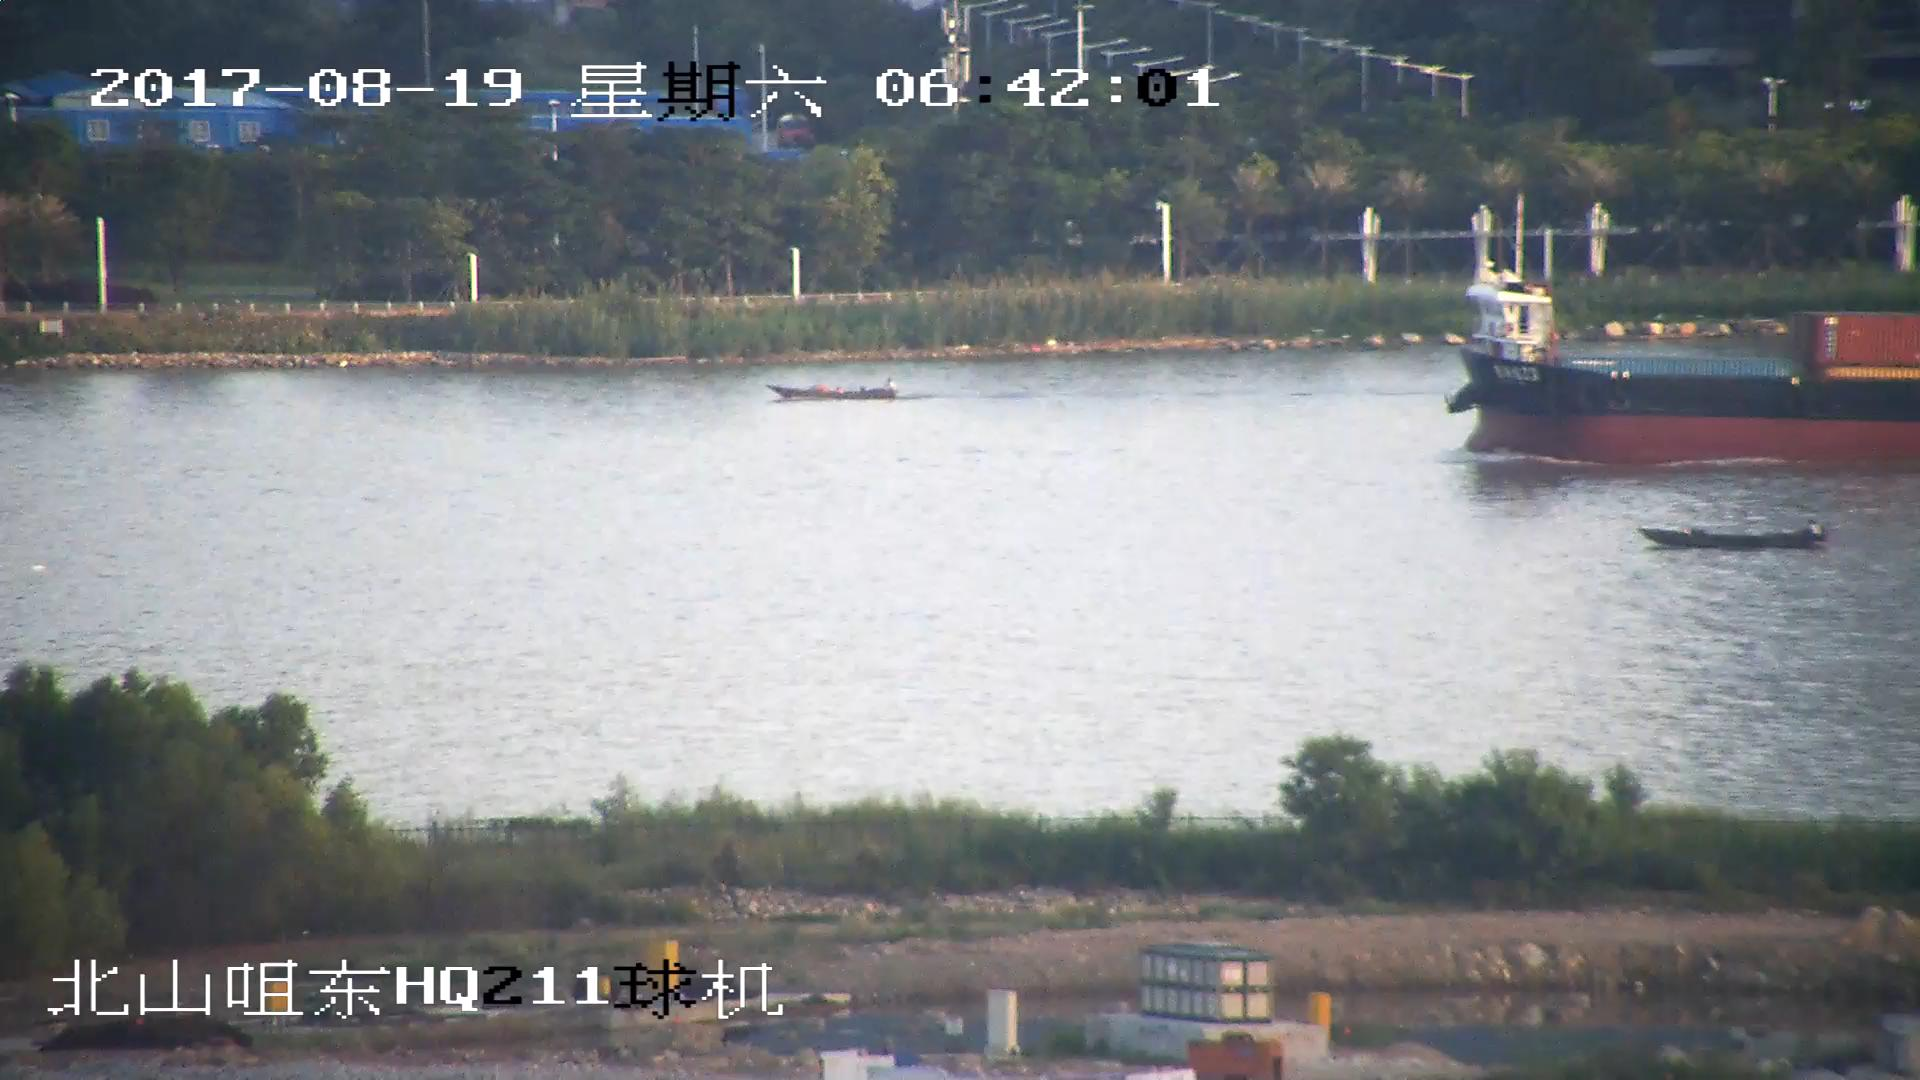container ship: (1446, 261, 1920, 463)
fishing boat: (1642, 516, 1825, 554), (765, 375, 899, 405)
